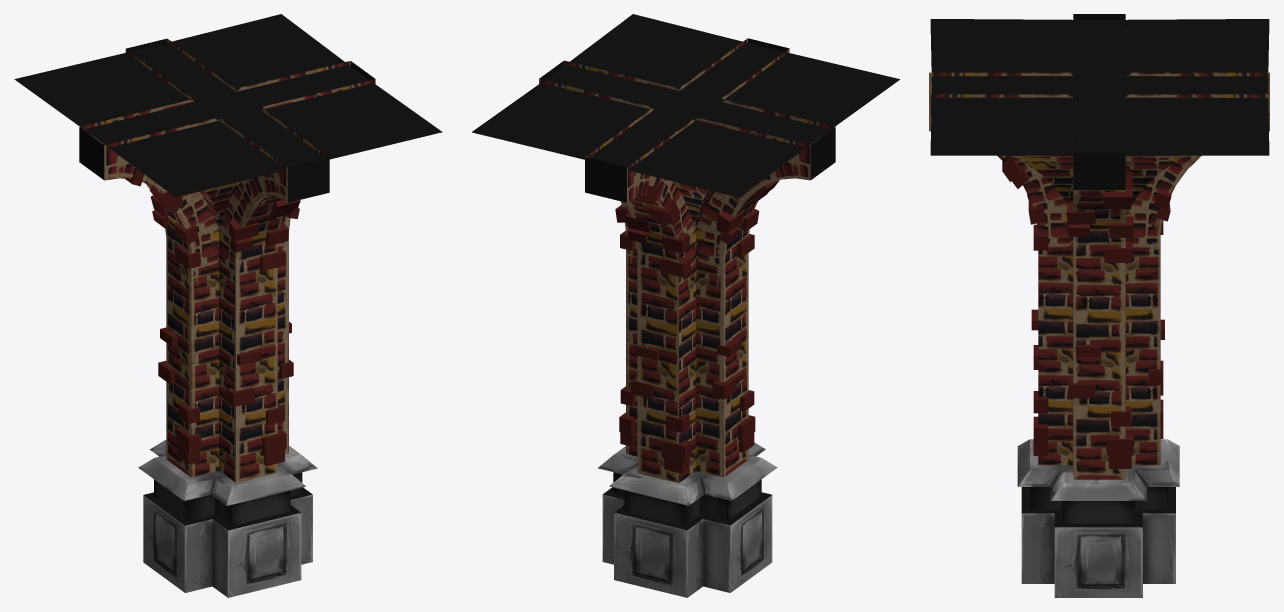
The model's file is Basement Pillar.fbx.
3 views of the same model, side by side, from view 1: azimuth 30°, elevation 25°; view 2: azimuth 150°, elevation 25°; view 3: azimuth 270°, elevation 25° (orthographic). The views are drawn at different scales.
Parts seen in each view (by area): view 1: Pillar1, Pillar_pCube62, Pillar_pCube64; view 2: Pillar1, Pillar_pCube63, Pillar_pCube64, Pillar_pCube61; view 3: Pillar1, Pillar_pCube61, Pillar_pCube62, Pillar_pCube63.
Boxes of the visible parts, x1=… form: Pillar1: x1=14, y1=14, x2=442, y2=597; Pillar_pCube62: x1=226, y1=200, x2=300, y2=466; Pillar_pCube64: x1=125, y1=168, x2=201, y2=464; Pillar1: x1=472, y1=14, x2=899, y2=597; Pillar_pCube63: x1=625, y1=185, x2=691, y2=473; Pillar_pCube64: x1=712, y1=180, x2=779, y2=452; Pillar_pCube61: x1=615, y1=205, x2=635, y2=446; Pillar1: x1=929, y1=14, x2=1269, y2=597; Pillar_pCube61: x1=1066, y1=171, x2=1133, y2=468; Pillar_pCube62: x1=1002, y1=159, x2=1048, y2=455; Pillar_pCube63: x1=1148, y1=189, x2=1171, y2=438.
Bounding box in the file's own units: 231 × 374 × 240.
